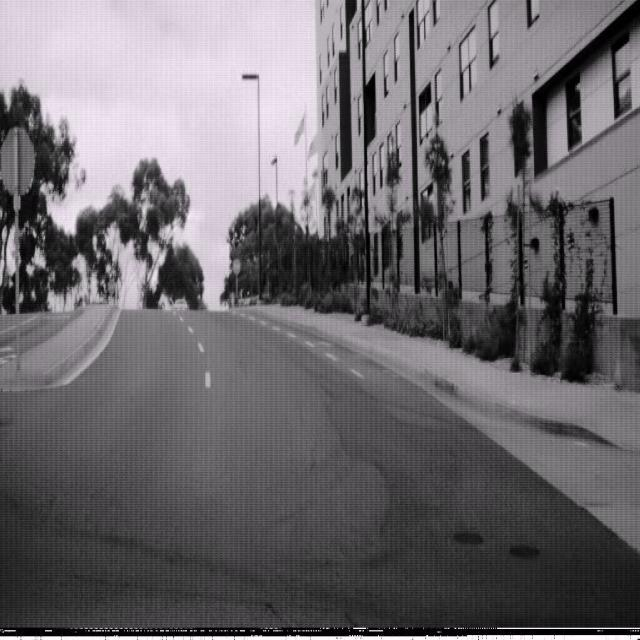stop_sign: (232, 256, 240, 275)
